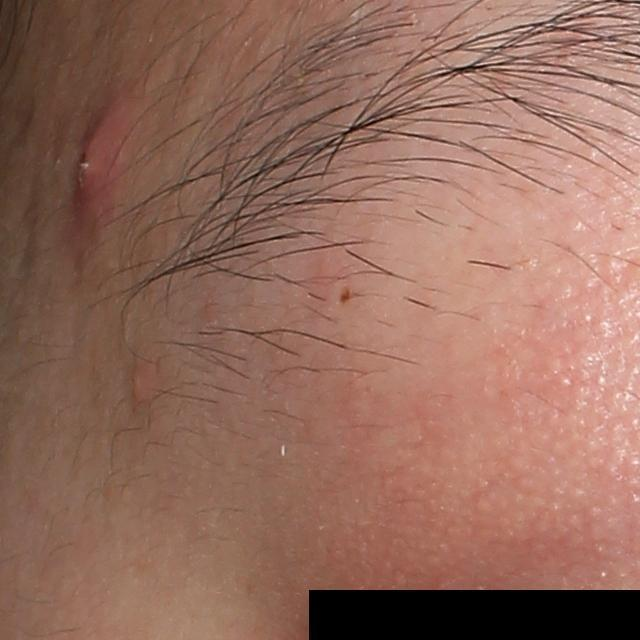nevus: (339, 287, 352, 306)
papule: (126, 365, 156, 406)
